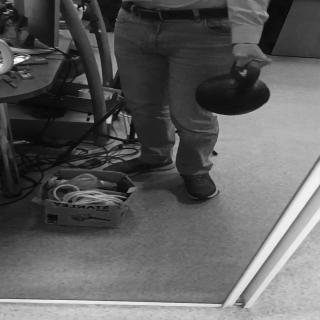kettlebell: (196, 57, 272, 118)
